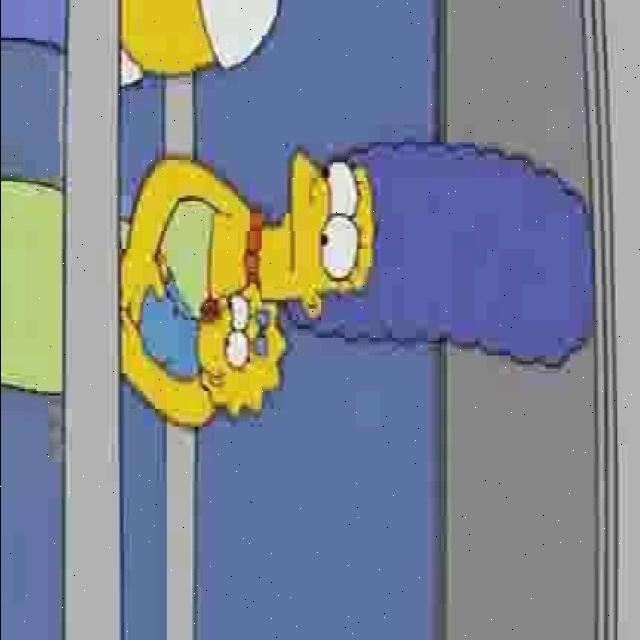Maggie Simpson: (190, 282, 286, 424)
Marge Simpson: (239, 139, 596, 377)
